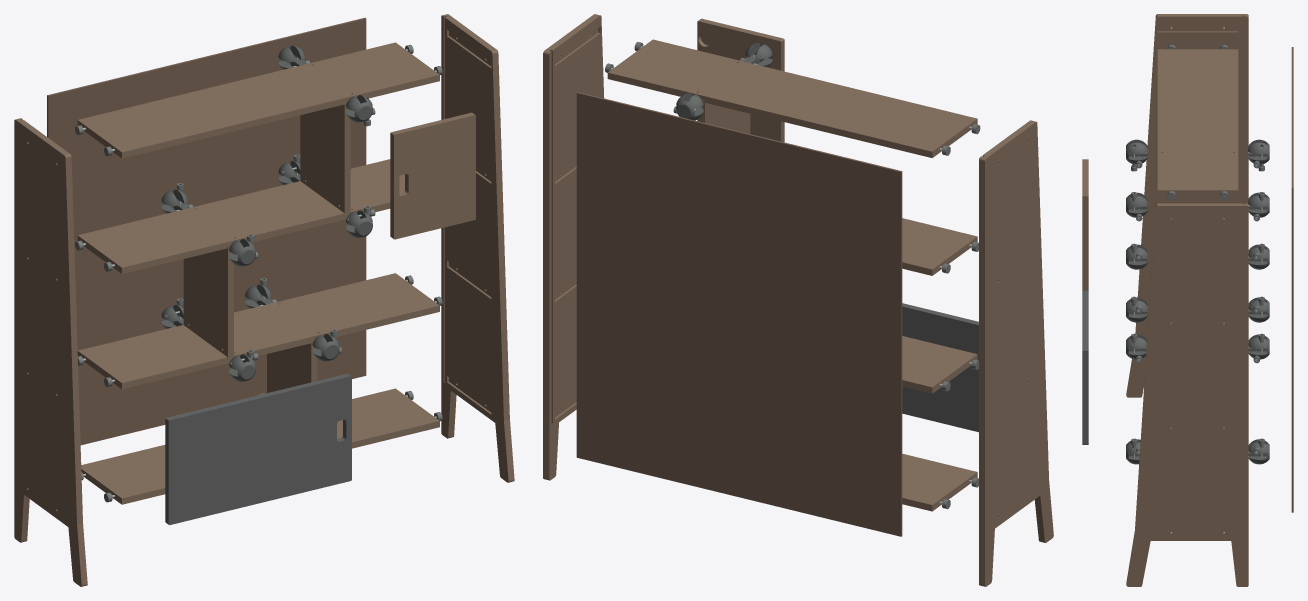
Rendered from exploded.glb.
3 renders of one model, left to right at view 1: azimuth 30°, elevation 25°; view 2: azimuth 150°, elevation 25°; view 3: azimuth 270°, elevation 25°, orthographic. The views are drawn at different scales.
Parts seen in each view (by area): view 1: back-panel, frame-left, frame-right, door-0, shelf-3, shelf-1, shelf-2, door-1, shelf-0, partition-2, partition-1, partition-0; view 2: back-panel, frame-left, shelf-3, frame-right, door-0, door-1, shelf-2, shelf-1, shelf-0, partition-2; view 3: frame-right, shelf-3, frame-left, back-panel, door-0, door-1, partition-2, node-x700-l3-rear, node-x700-l3-front, node-x350-l2-front, node-x350-l2-rear, node-x600-l1-rear (+6 smaller).
Boxes of the visible parts, <box> form: back-panel: <box>47,17,366,445</box>; frame-left: <box>14,118,87,586</box>; frame-right: <box>441,14,514,482</box>; door-0: <box>165,373,351,525</box>; shelf-3: <box>77,42,439,158</box>; shelf-1: <box>77,273,439,389</box>; shelf-2: <box>77,159,404,273</box>; door-1: <box>390,112,475,239</box>; shelf-0: <box>81,388,439,504</box>; partition-2: <box>300,101,350,215</box>; partition-1: <box>183,245,233,359</box>; partition-0: <box>267,340,317,392</box>; back-panel: <box>576,92,902,536</box>; frame-left: <box>979,120,1053,586</box>; shelf-3: <box>607,39,977,157</box>; frame-right: <box>543,14,604,480</box>; door-0: <box>902,303,978,432</box>; door-1: <box>697,18,784,142</box>; shelf-2: <box>902,218,977,275</box>; shelf-1: <box>902,336,977,393</box>; shelf-0: <box>902,453,977,511</box>; partition-2: <box>698,100,750,133</box>; frame-right: <box>1126,203,1248,586</box>; shelf-3: <box>1157,49,1238,195</box>; frame-left: <box>1126,14,1248,397</box>; back-panel: <box>1291,47,1293,512</box>; door-0: <box>1082,290,1088,444</box>; door-1: <box>1082,159,1088,290</box>; partition-2: <box>1157,196,1238,217</box>; node-x700-l3-rear: <box>1247,139,1269,164</box>; node-x700-l3-front: <box>1126,139,1148,164</box>; node-x350-l2-front: <box>1126,192,1148,217</box>; node-x350-l2-rear: <box>1247,192,1269,217</box>; node-x600-l1-rear: <box>1248,334,1269,359</box>.
Bounding box in the file's own units: 1.3 × 1.2 × 0.603.
